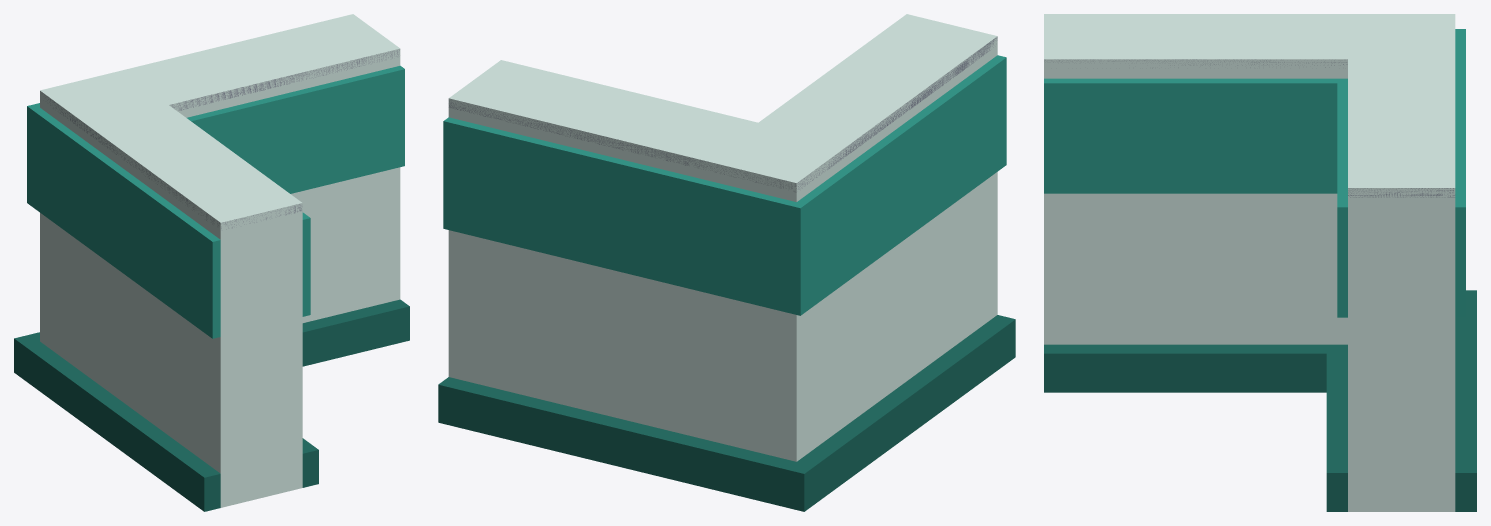
Rendered from partition-elbow.glb.
3 renders of one model, left to right at view 1: azimuth 30°, elevation 25°; view 2: azimuth 150°, elevation 25°; view 3: azimuth 270°, elevation 25°, orthographic. The views are drawn at different scales.
Parts seen in each view (by area): view 1: partition-elbow; view 2: partition-elbow; view 3: partition-elbow.
Boxes of the visible parts, left/top/right/bottom form: partition-elbow: left=14, top=14, right=409, bottom=511; partition-elbow: left=438, top=14, right=1015, bottom=511; partition-elbow: left=1044, top=14, right=1476, bottom=511.
Size of the model in its own units: 0.605 by 0.5 by 0.605.
1 material, 1 textured.
